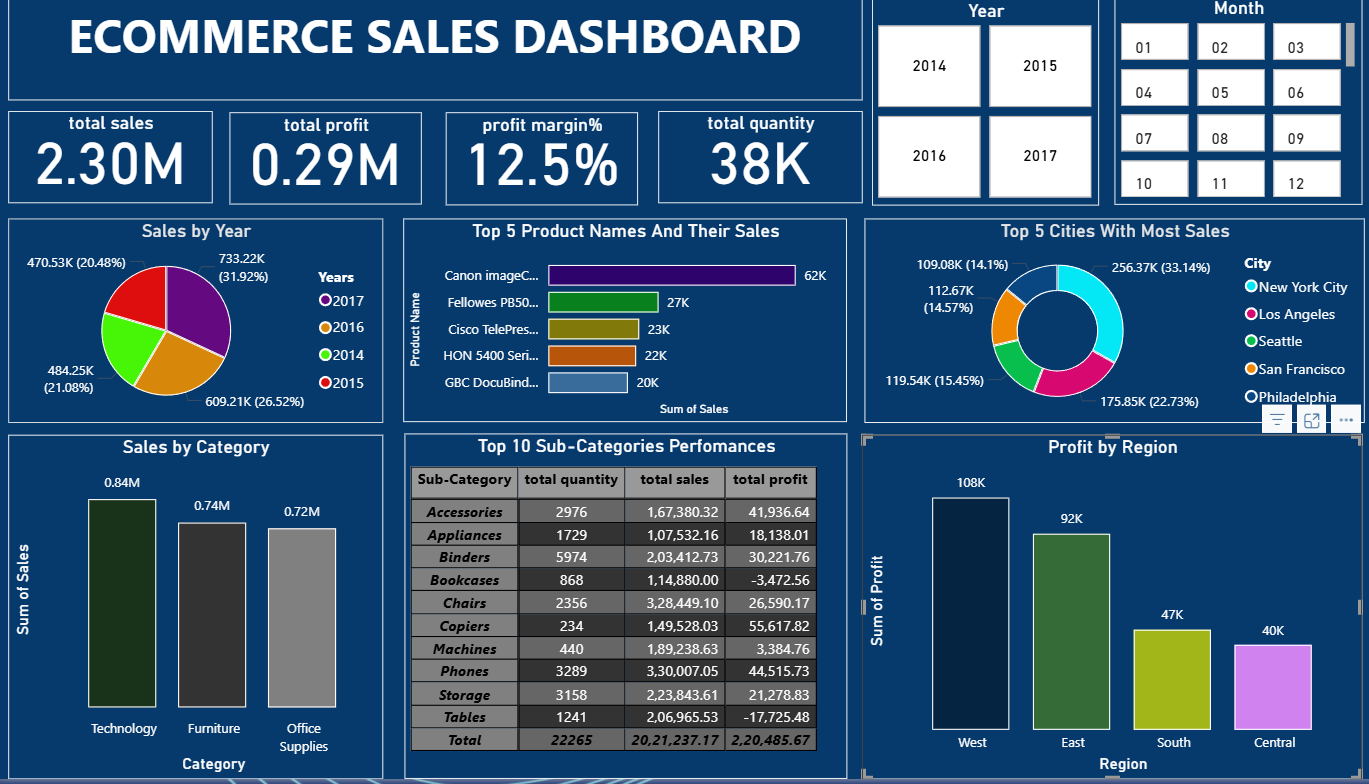

The dashboard page shown, as its layout file describes it:
{"tool":"powerbi","page":{"name":"Page 1","canvas":[1280,720],"ordinal":0},"visuals":[{"type":"card","title":"profit margin%","fields":{"Values":["Sheet1.profit margin%"]},"box":[417.2,106.7,176.7,85.9],"z":0},{"type":"card","title":"total profit","fields":{"Values":["Sheet1.total profit"]},"box":[218.4,106.7,176.7,84.7],"z":1000},{"type":"card","title":"total quantity","fields":{"Values":["Sheet1.total quantity"]},"box":[612.3,105.5,187.7,84.7],"z":2000},{"type":"card","title":"total sales","fields":{"Values":["Sheet1.total sales"]},"box":[14.7,105.5,187.7,84.7],"z":3000},{"type":"advancedSlicerVisual","fields":{"Values":["Sheet1.Year"]},"box":[809.6,2.7,208.6,190.7],"z":4000},{"type":"advancedSlicerVisual","fields":{"Values":["Sheet1.Month"]},"box":[1031.9,0,227.8,192.1],"z":5000},{"type":"clusteredColumnChart","title":" Sales by Category","fields":{"Category":["Sheet1.Category"],"Y":["Sum(Sheet1.Sales)"]},"box":[15.1,403.4,344.4,317],"z":6000},{"type":"pieChart","title":" Sales by Year","fields":{"Y":["Sum(Sheet1.Sales)"],"Category":["Sheet1.Year"]},"box":[15.1,204.5,344.4,188],"z":7000},{"type":"clusteredColumnChart","title":" Profit by Region","fields":{"Category":["Sheet1.Region"],"Y":["Sum(Sheet1.Profit)"]},"box":[800,403.7,460.1,316.6],"z":8000},{"type":"clusteredBarChart","title":"Top 5 Product Names And Their Sales","fields":{"Category":["Sheet1.Product Name"],"Y":["Sum(Sheet1.Sales)"]},"box":[378.2,204.6,408,187.4],"z":9000},{"type":"donutChart","title":"Top 5 Cities With Most Sales","fields":{"Category":["Sheet1.City"],"Y":["Sum(Sheet1.Sales)"]},"box":[802.7,204.5,459.7,188],"z":10000},{"type":"pivotTable","title":"Top 10 Sub-Categories Perfomances","fields":{"Rows":["Sheet1.Sub-Category"],"Values":["Sheet1.total quantity","Sheet1.total sales","Sheet1.total profit"]},"box":[379.1,402.5,407.4,317.8],"z":11000},{"type":"textbox","box":[14.7,0,785.3,95.7],"z":12000}]}

Visuals, with their boxes in screenshot pixels (x1, y1, x2, y2), scaled from the page's 1280x720 canvas onto the 1369x784 screenshot:
"profit margin%" card: select_region(446, 116, 635, 210)
"total profit" card: select_region(234, 116, 423, 208)
"total quantity" card: select_region(655, 115, 856, 207)
"total sales" card: select_region(16, 115, 216, 207)
advancedSlicerVisual - Sheet1.Year: select_region(866, 3, 1089, 211)
advancedSlicerVisual - Sheet1.Month: select_region(1104, 0, 1347, 209)
" Sales by Category" clusteredColumnChart: select_region(16, 439, 384, 783)
" Sales by Year" pieChart: select_region(16, 223, 384, 427)
" Profit by Region" clusteredColumnChart: select_region(856, 440, 1348, 783)
"Top 5 Product Names And Their Sales" clusteredBarChart: select_region(404, 223, 841, 427)
"Top 5 Cities With Most Sales" donutChart: select_region(859, 223, 1350, 427)
"Top 10 Sub-Categories Perfomances" pivotTable: select_region(405, 438, 841, 783)
textbox: select_region(16, 0, 856, 104)
